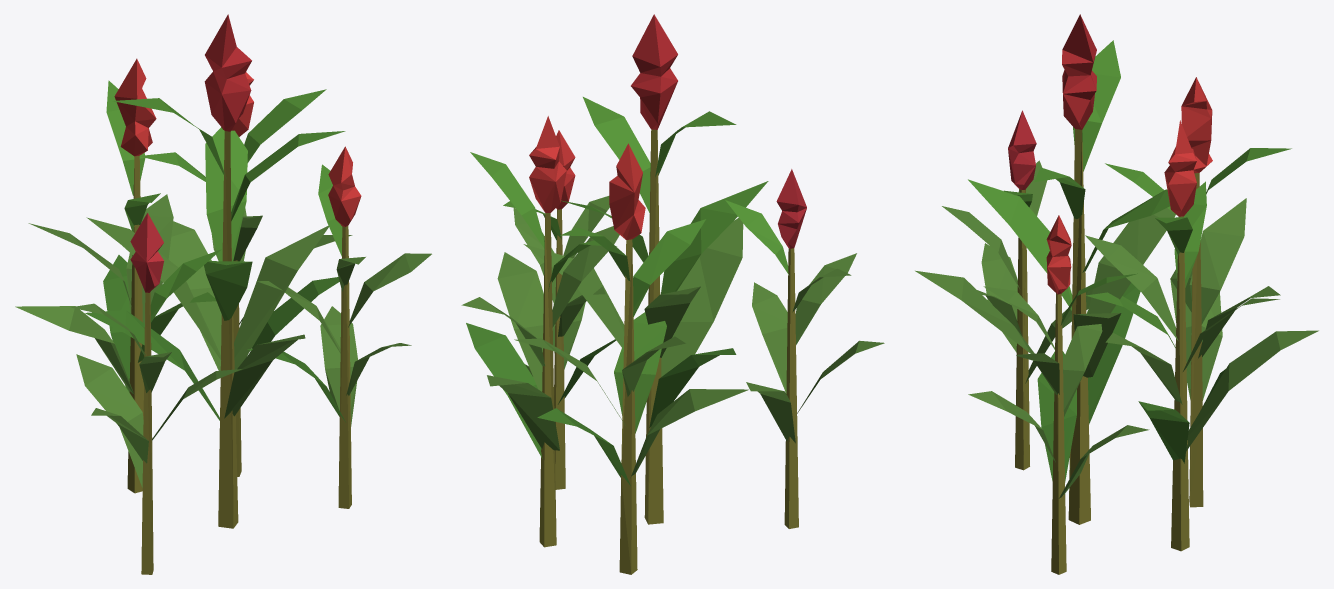
Rendered from Env_Flower04.FBX.
3 views of the same model, side by side, from view 1: azimuth 30°, elevation 25°; view 2: azimuth 150°, elevation 25°; view 3: azimuth 270°, elevation 25° (orthographic).
Visible parts, largest first — view 1: Env_Flower04; view 2: Env_Flower04; view 3: Env_Flower04.
Boxes of the visible parts, x1,y1,x2,y2 form: Env_Flower04: (15,14,431,574); Env_Flower04: (461,14,884,574); Env_Flower04: (915,14,1318,574).
Bounding box in the file's own units: 123 × 167 × 121.
Materials: 1 (1 with a texture image).
